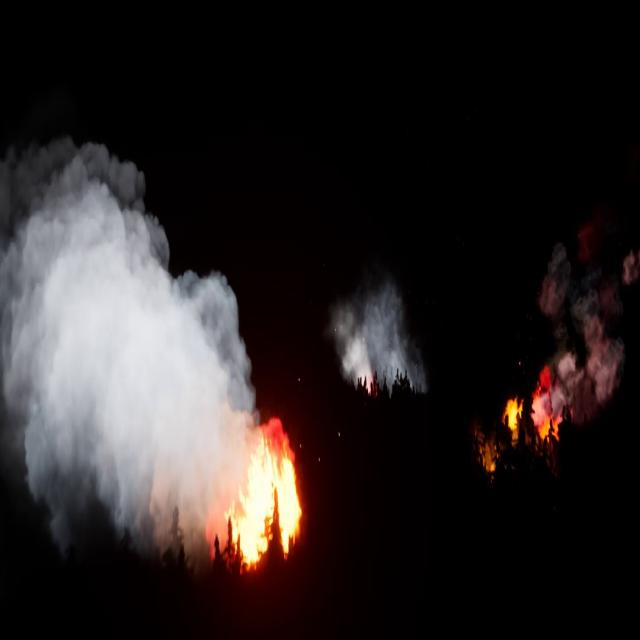fire: (229, 418, 304, 570), (498, 368, 560, 447)
smoke: (0, 132, 254, 562), (532, 219, 640, 433), (335, 289, 430, 404)
